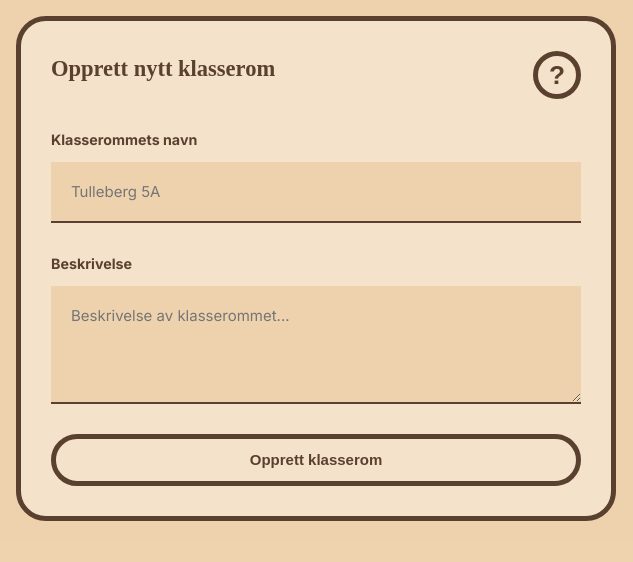
TeachersCreateClassroomView › shows error when classroom name is missing
The image size is (633, 562).
In the text box with id "classroom-description": (316, 345) [51,286,581,404], type "Dette er en beskrivelse"
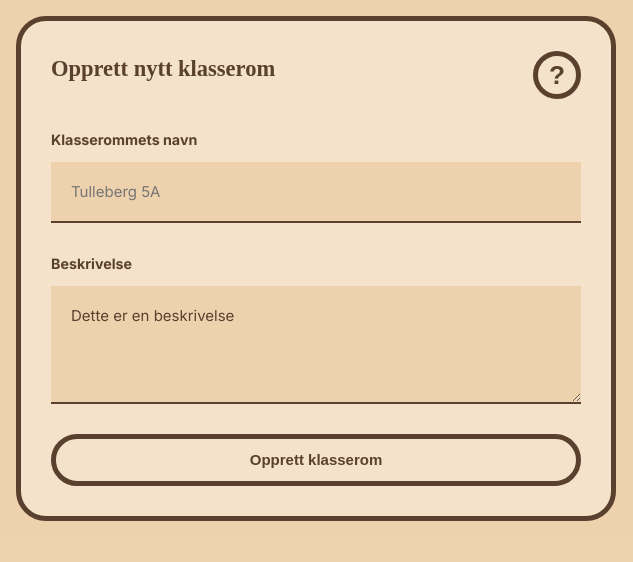
Submit the form, box [51,129,581,486]
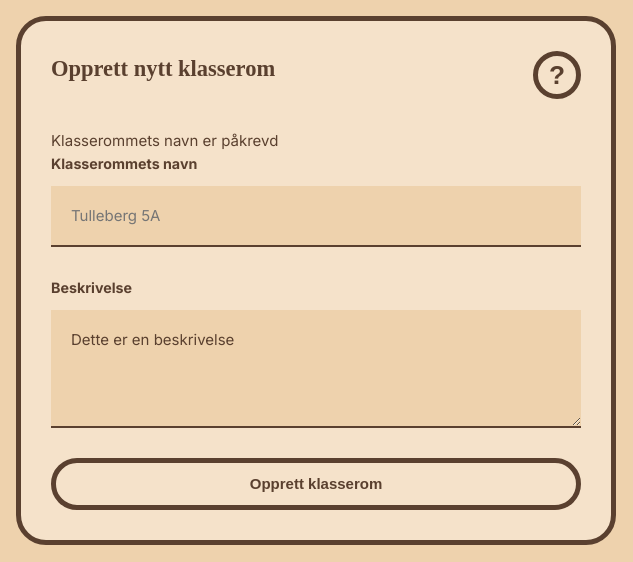
Expected: the text "Klasserommets navn er påkrevd" is shown, [51,131,278,150]
